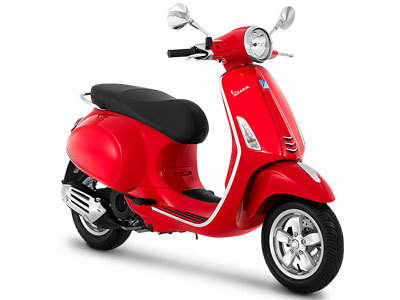motorcycle: (61, 20, 342, 293)
